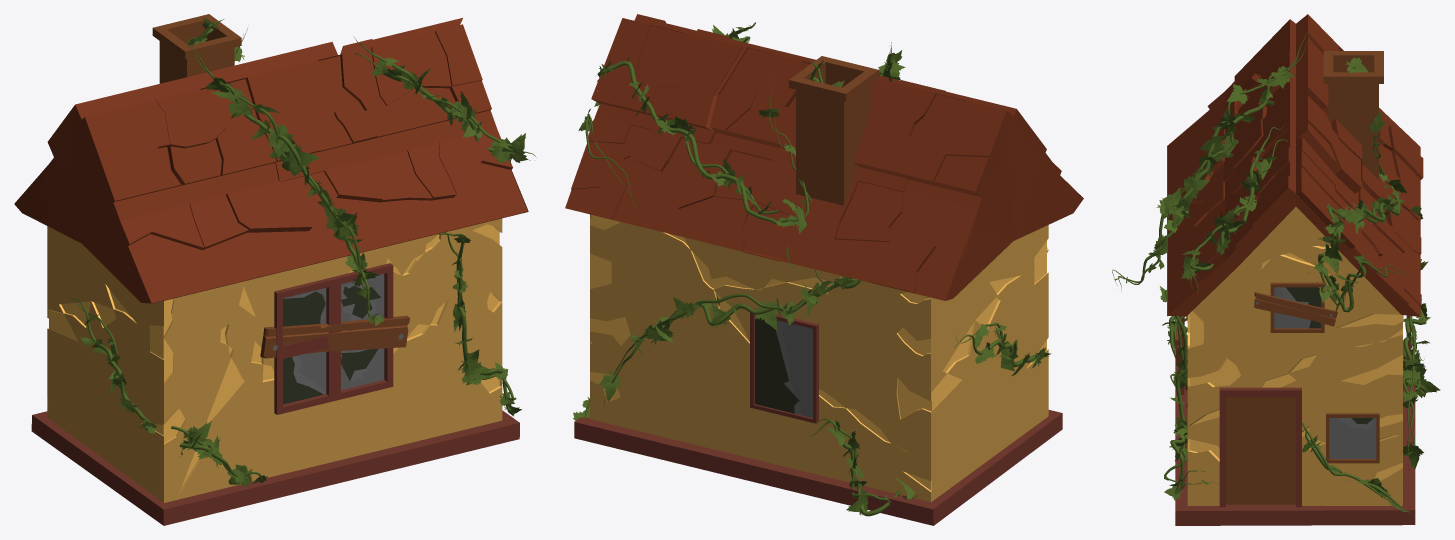
Rendered from Building7_Fix.fbx.
The picture shows the model from 3 angles, left to right: view 1: azimuth 30°, elevation 25°; view 2: azimuth 150°, elevation 25°; view 3: azimuth 270°, elevation 25°; orthographic projection. The views are drawn at different scales.
Parts seen in each view (by area): view 1: Cube.042, Cube.036, Vines.008, Plane.009, Cube.043, Wooden Planks.028; view 2: Cube.036, Cube.042, Vines.008, Cube.043, Windows/Doors.005; view 3: Cube.036, Cube.042, Vines.008, Cube.044, Cube.043, Cube.046, Cube.045, Wooden Planks.029.
Boxes of the visible parts, x1=… form: Cube.042: x1=14, y1=18, x2=528, y2=303; Cube.036: x1=31, y1=218, x2=519, y2=525; Vines.008: x1=70, y1=18, x2=536, y2=486; Plane.009: x1=274, y1=263, x2=393, y2=414; Cube.043: x1=152, y1=14, x2=241, y2=83; Wooden Planks.028: x1=260, y1=315, x2=409, y2=358; Cube.036: x1=574, y1=214, x2=1062, y2=525; Cube.042: x1=565, y1=14, x2=1083, y2=300; Vines.008: x1=573, y1=22, x2=1051, y2=516; Cube.043: x1=789, y1=56, x2=878, y2=205; Windows/Doors.005: x1=750, y1=308, x2=818, y2=423; Cube.036: x1=1175, y1=207, x2=1415, y2=525; Cube.042: x1=1167, y1=14, x2=1423, y2=316; Vines.008: x1=1112, y1=27, x2=1440, y2=512; Cube.044: x1=1219, y1=387, x2=1301, y2=507; Cube.043: x1=1323, y1=51, x2=1383, y2=179; Cube.046: x1=1326, y1=413, x2=1379, y2=463; Cube.045: x1=1270, y1=282, x2=1324, y2=332; Wooden Planks.029: x1=1254, y1=292, x2=1337, y2=326.
Size of the model in its own units: 650 by 652 by 501.
